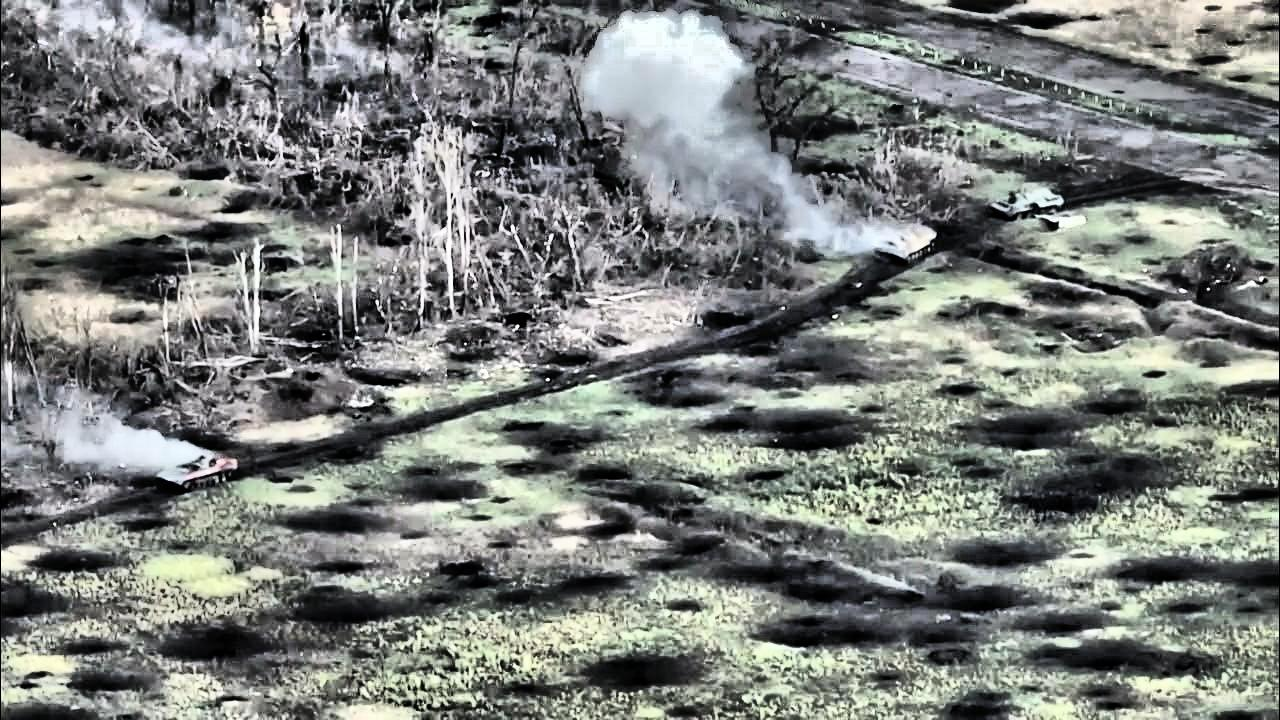military-vehicle: (154, 449, 239, 494), (873, 222, 937, 264), (990, 188, 1058, 222)
